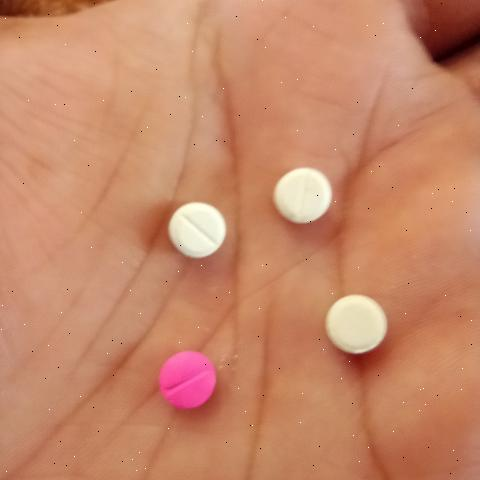Pill: (310, 281, 403, 379), (256, 141, 354, 231), (158, 191, 244, 293)
